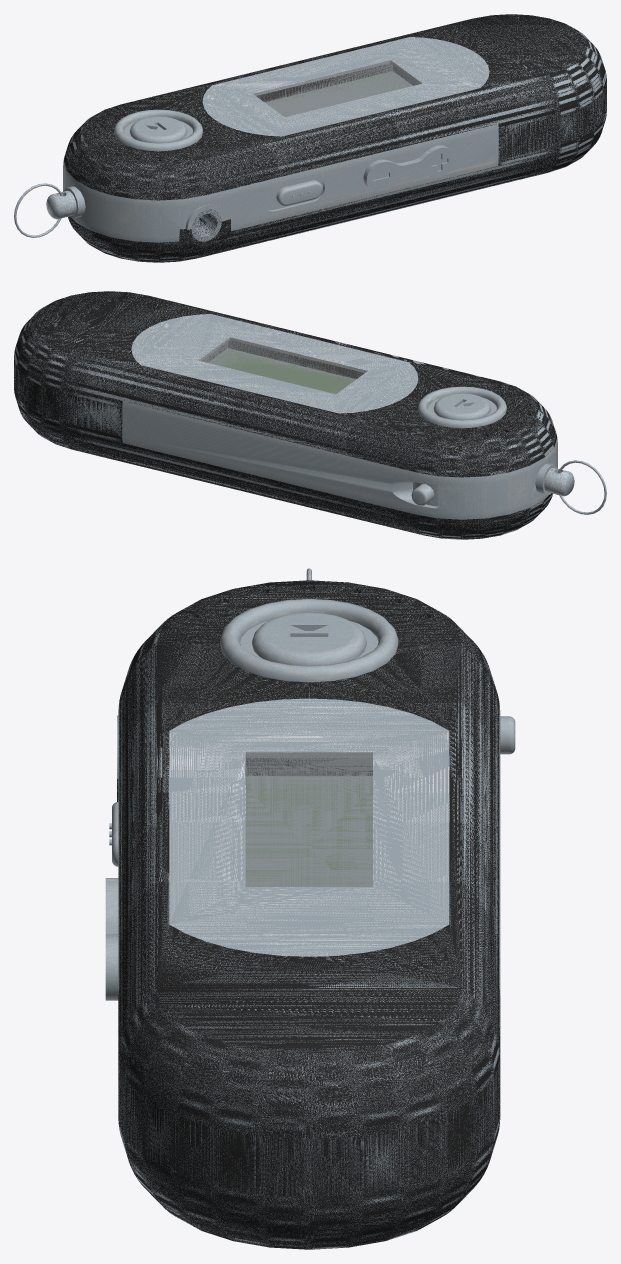
3 renders of one model, top to bottom at view 1: azimuth 30°, elevation 25°; view 2: azimuth 150°, elevation 25°; view 3: azimuth 270°, elevation 25°, orthographic. The views are drawn at different scales.
Visible parts, largest first — view 1: Group1; view 2: Group1; view 3: Group1.
Part boxes in pixels (<box>): Group1: <box>14,14,606,262</box>; Group1: <box>14,291,606,539</box>; Group1: <box>105,568,515,1249</box>.
Bounding box in the file's own units: 1.05 × 0.2121 × 0.3219.
